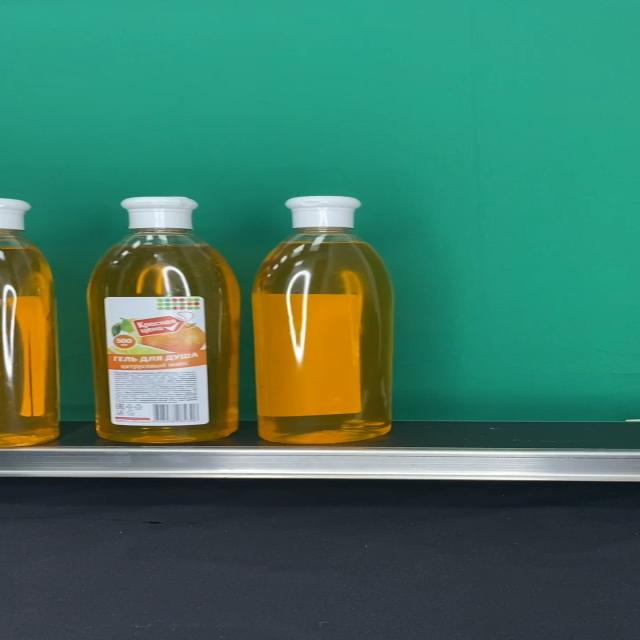Bottle: (88, 197, 240, 443), (253, 196, 393, 444)
Cap: (283, 196, 362, 230), (120, 198, 200, 230)
